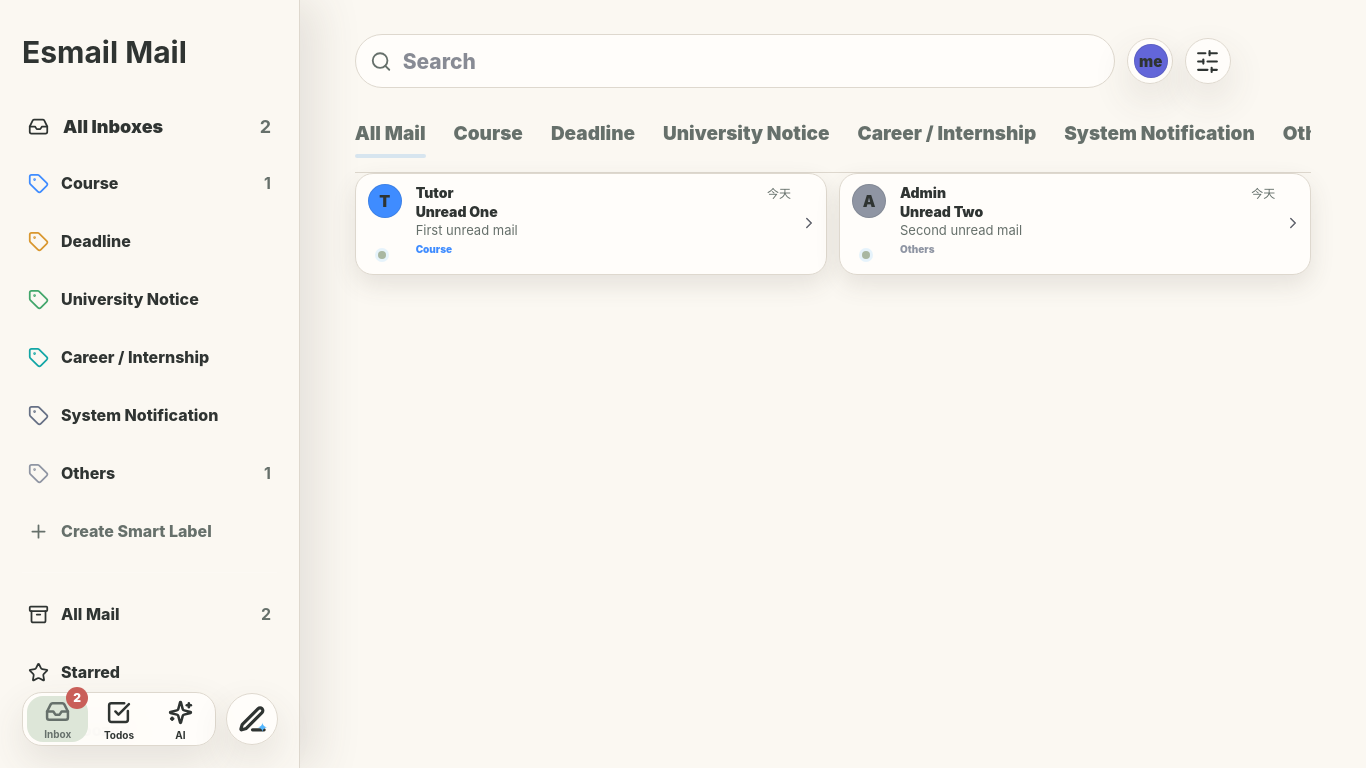
Test: App unread state › generates a summary from a preloaded body when opening the detail
Expected: the text "Unread One" is shown, [416, 203, 498, 220]
Click the button "T Tutor 今天 Unread One First unread mail Course".
click(385, 201)  # box [355, 173, 827, 275]
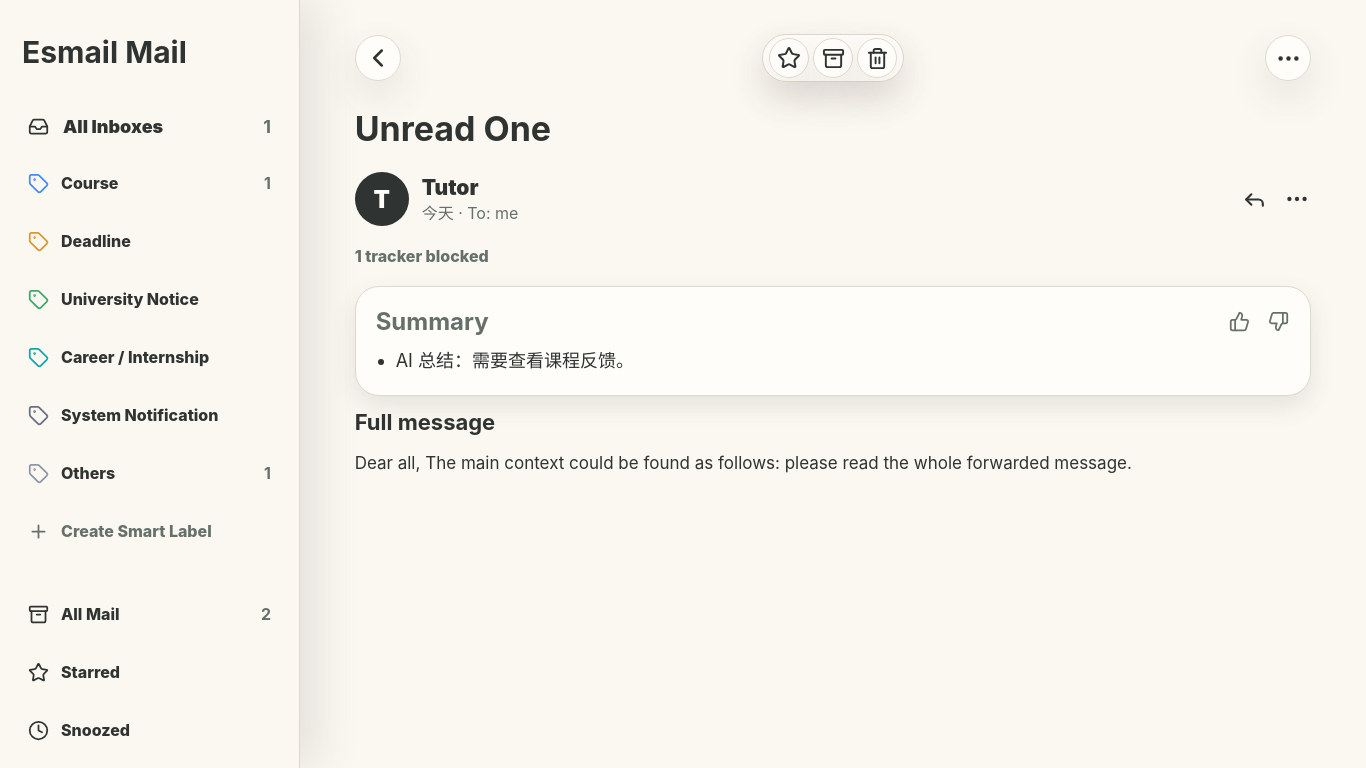
Now the list item "AI 总结：需要查看课程反馈。" is shown, box [396, 350, 634, 371]
